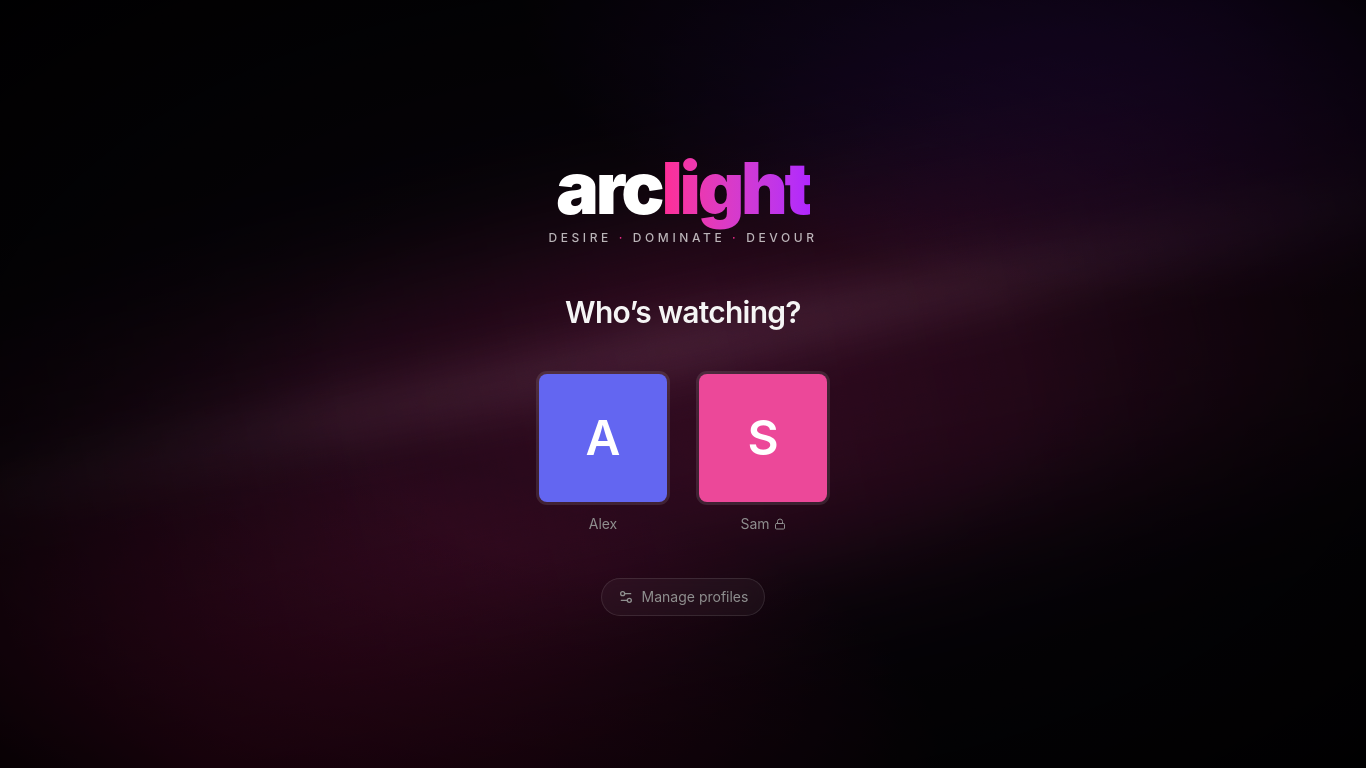
Who's watching? picker › shows when signed in with no profile selected, and enters on a tile
The width and height of the screenshot is (1366, 768).
Expected: the heading "Who’s watching?" is shown, [565, 294, 801, 330]
Expected: the text "Private library" is not shown
Click the button "A Alex" at (603, 454), box [539, 370, 667, 538]
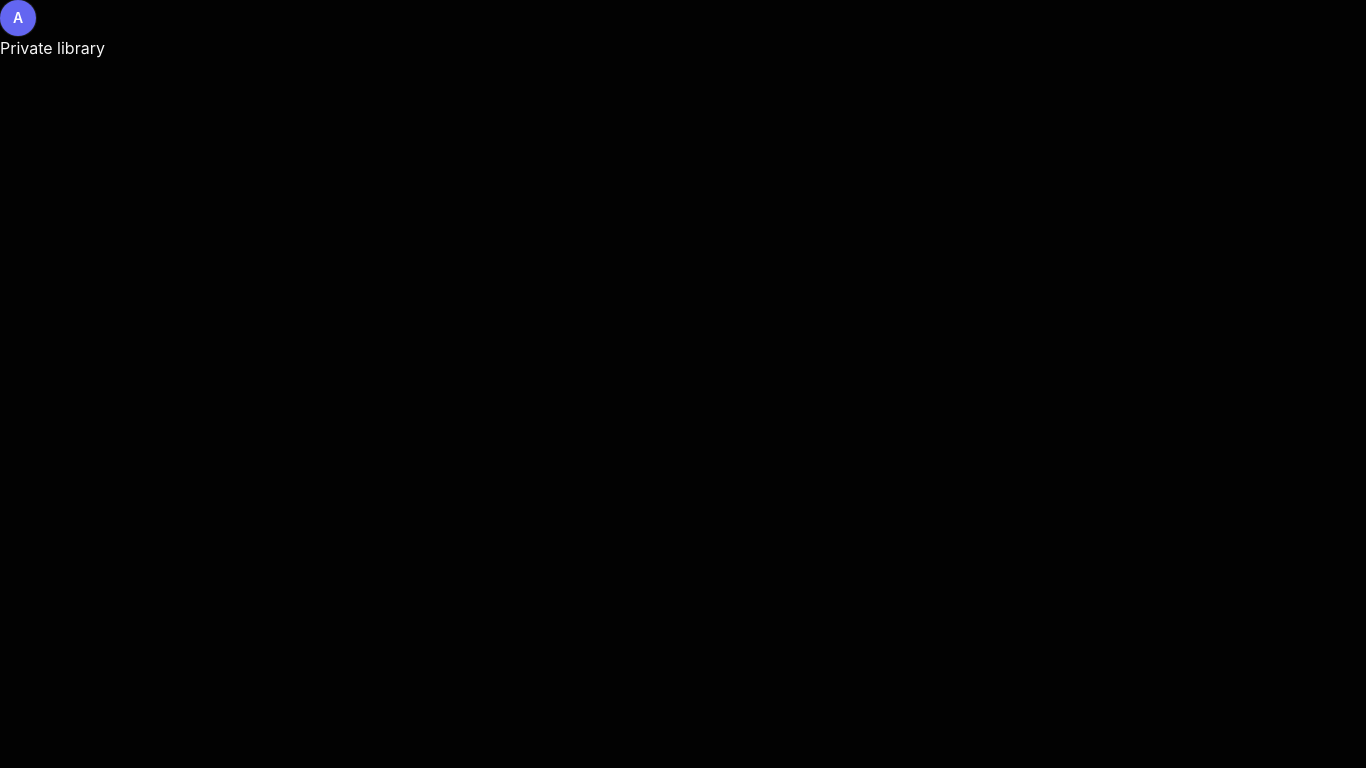
Now the text "Private library" is shown, box [0, 38, 105, 58]
